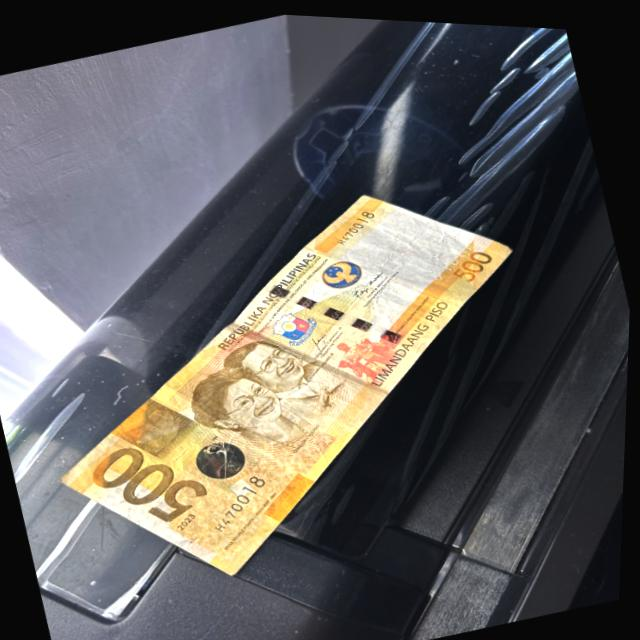concealed_value: (115, 392, 198, 462)
optically_variable_device: (190, 430, 255, 484)
watermark: (331, 183, 484, 288)
